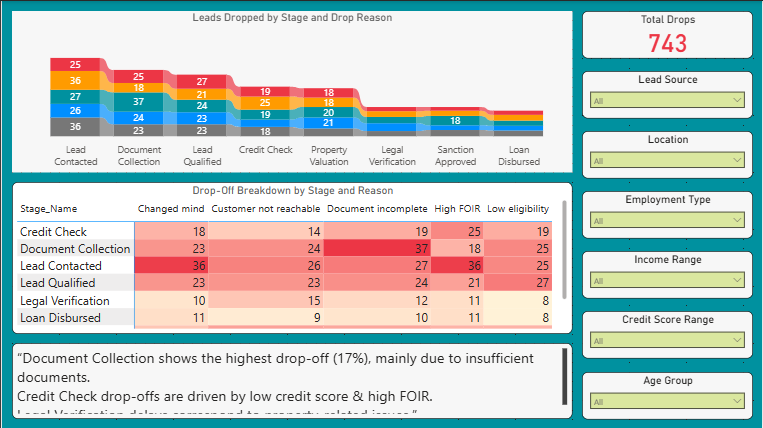

The page's visual inventory and layout, read from the dashboard file:
{"tool":"powerbi","page":{"name":"Drop-Off Analysis","canvas":[1280,720],"ordinal":1},"visuals":[{"type":"columnChart","title":"Leads Dropped by Stage and Drop Reason","fields":{"Category":["Stage_Tracking.Stage_Name"],"Series":["Stage_Tracking.Drop_Reason"],"Y":["Count(Stage_Tracking.Lead_ID)"]},"box":[16,16,944,272],"z":0},{"type":"card","title":"Total Drops","fields":{"Values":["Key_Measures.Total Drops"]},"box":[976,16,288,80],"z":1000},{"type":"pivotTable","title":"Drop-Off Breakdown by Stage and Reason","fields":{"Columns":["Stage_Tracking.Drop_Reason"],"Values":["Count(Stage_Tracking.Lead_ID)"],"Rows":["Stage_Tracking.Stage_Name"]},"box":[16,304,944,256],"z":2000},{"type":"slicer","title":"Lead Source","fields":{"Values":["Lead_Master.Lead_Source"]},"box":[976,117.3,288,80],"z":3000},{"type":"slicer","title":"Location","fields":{"Values":["Lead_Master.Location"]},"box":[976,218.7,288,80],"z":4000},{"type":"slicer","title":"Employment Type","fields":{"Values":["Lead_Master.Employment_Type"]},"box":[976,320,288,80],"z":5000},{"type":"slicer","title":"Income Range","fields":{"Values":["Lead_Master.Income Range"]},"box":[976,421.3,288,80],"z":6000},{"type":"slicer","title":"Credit Score Range","fields":{"Values":["Credit_Assessment.Credit Score Range"]},"box":[976,522.7,288,80],"z":7000},{"type":"slicer","title":"Age Group","fields":{"Values":["Lead_Master.Age Group"]},"box":[976,624,288,80],"z":8000},{"type":"textbox","title":"Insights","box":[16,576,944,128],"z":9000}]}

Visuals, with their boxes in screenshot pixels (x1, y1, x2, y2), scaled from the page's 1280x720 canvas onto the 763x428 screenshot:
"Leads Dropped by Stage and Drop Reason" columnChart: bbox=[10, 10, 572, 171]
"Total Drops" card: bbox=[582, 10, 753, 57]
"Drop-Off Breakdown by Stage and Reason" pivotTable: bbox=[10, 181, 572, 333]
"Lead Source" slicer: bbox=[582, 70, 753, 117]
"Location" slicer: bbox=[582, 130, 753, 178]
"Employment Type" slicer: bbox=[582, 190, 753, 238]
"Income Range" slicer: bbox=[582, 250, 753, 298]
"Credit Score Range" slicer: bbox=[582, 311, 753, 358]
"Age Group" slicer: bbox=[582, 371, 753, 418]
"Insights" textbox: bbox=[10, 342, 572, 418]
